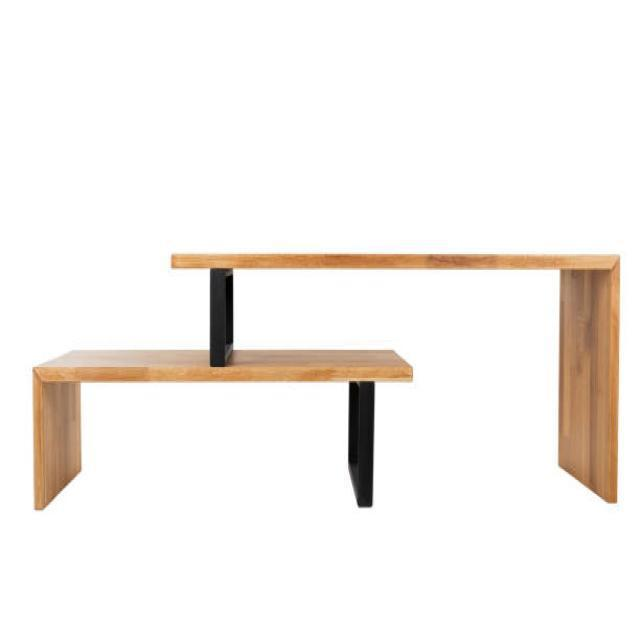table: (170, 251, 620, 504), (31, 345, 413, 510)
